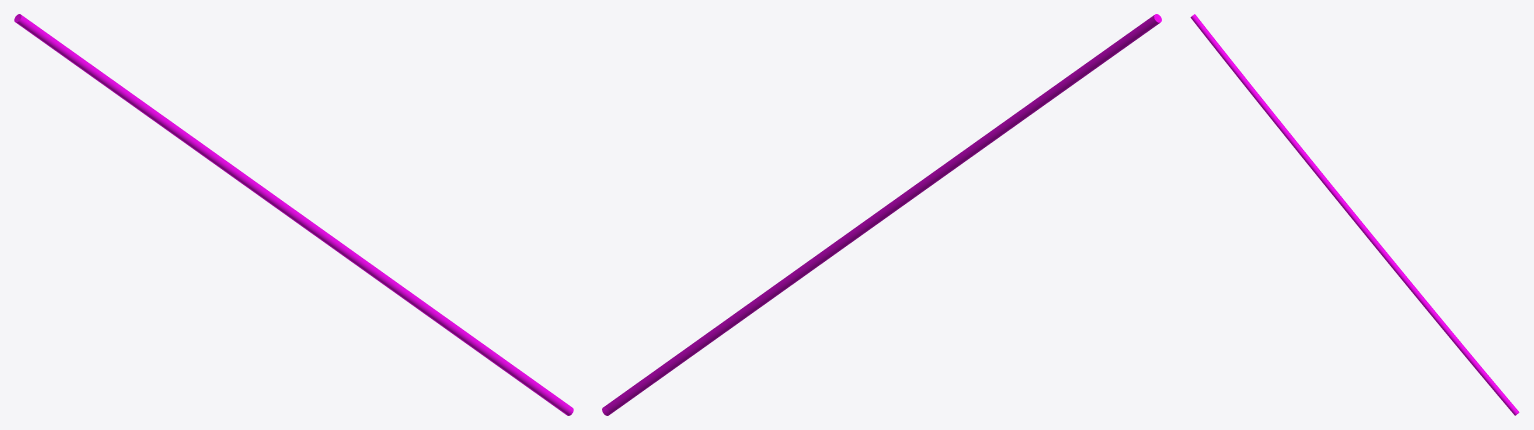
File: Event_105485643_electron_0.fbx
3 renders of one model, left to right at view 1: azimuth 30°, elevation 25°; view 2: azimuth 150°, elevation 25°; view 3: azimuth 330°, elevation 25°, orthographic. The views are drawn at different scales.
Parts seen in each view (by area): view 1: Model; view 2: Model; view 3: Model.
Boxes of the visible parts, left/top/right/bottom form: Model: left=14, top=14, right=573, bottom=415; Model: left=602, top=14, right=1161, bottom=415; Model: left=1190, top=14, right=1519, bottom=415.
Bounding box in the file's own units: 2.64 × 2.42 × 0.1056.
